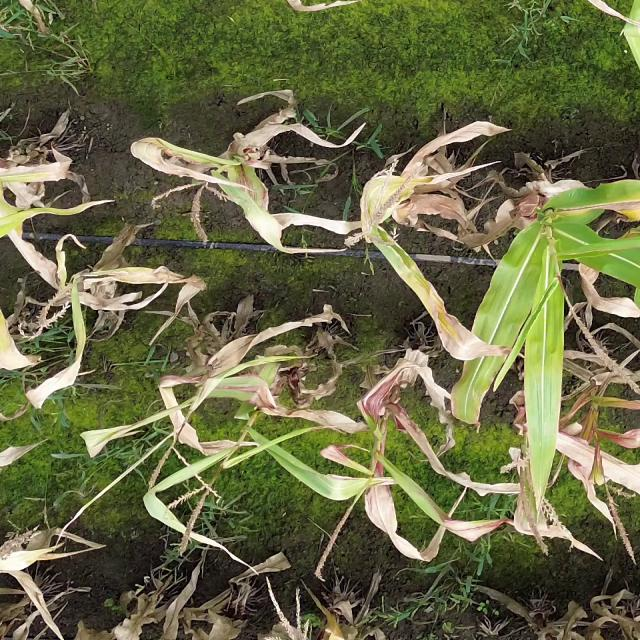northern-leaf-blight: (380, 237, 508, 426), (542, 159, 640, 232)
